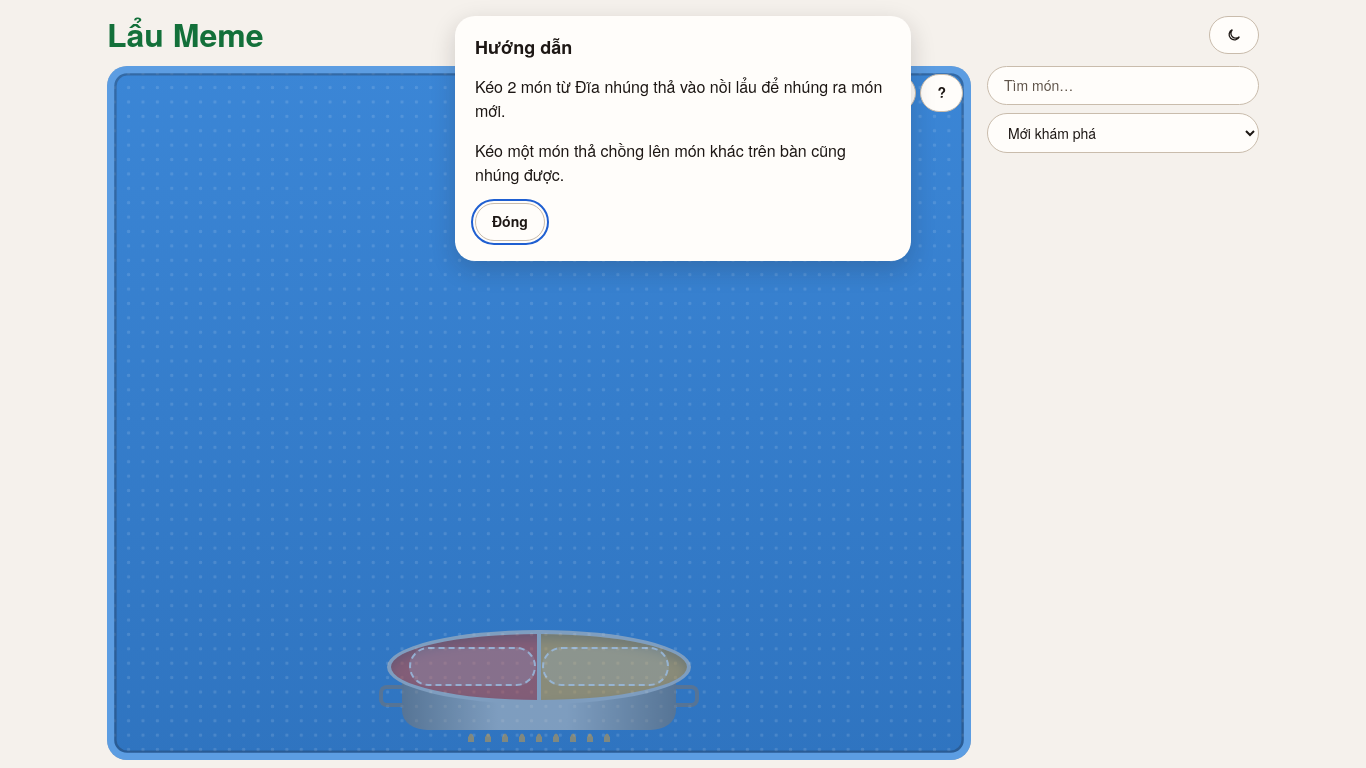
Test: AC-GAME-18: đổi cỡ khung nhìn PC -> mobile nhỏ thì mặt bàn đổi theo và món trên bàn không rơi ra ngoài mặt bàn
Click the button "Đóng" at (510, 222), box [475,203,545,241]
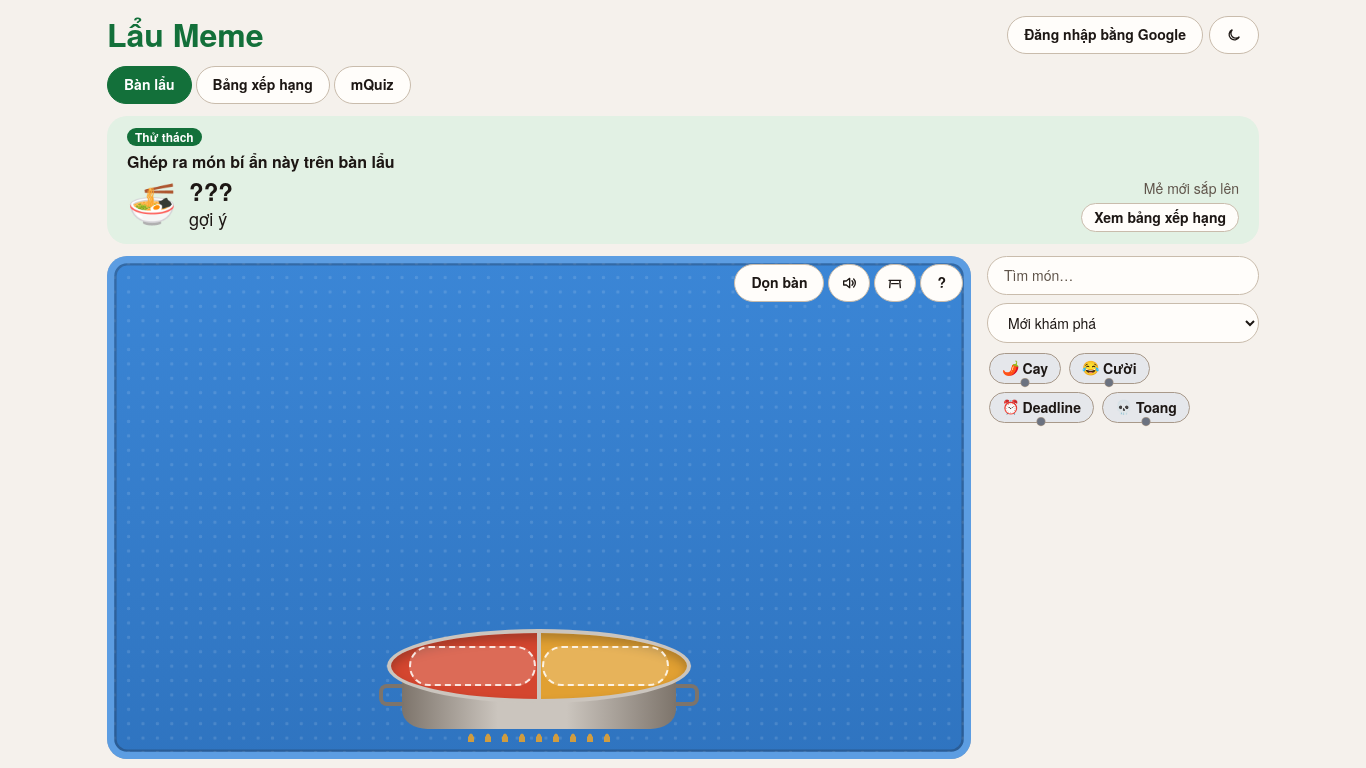
Expected: the element named "Món đặc biệt hôm nay" is shown, [107,116,1259,244]
Expected: the dialog is gone
Press the mouse on the list item with test id "plate-item" showing "🌶️ Cay" at (1025, 368), box [989,353,1061,384]
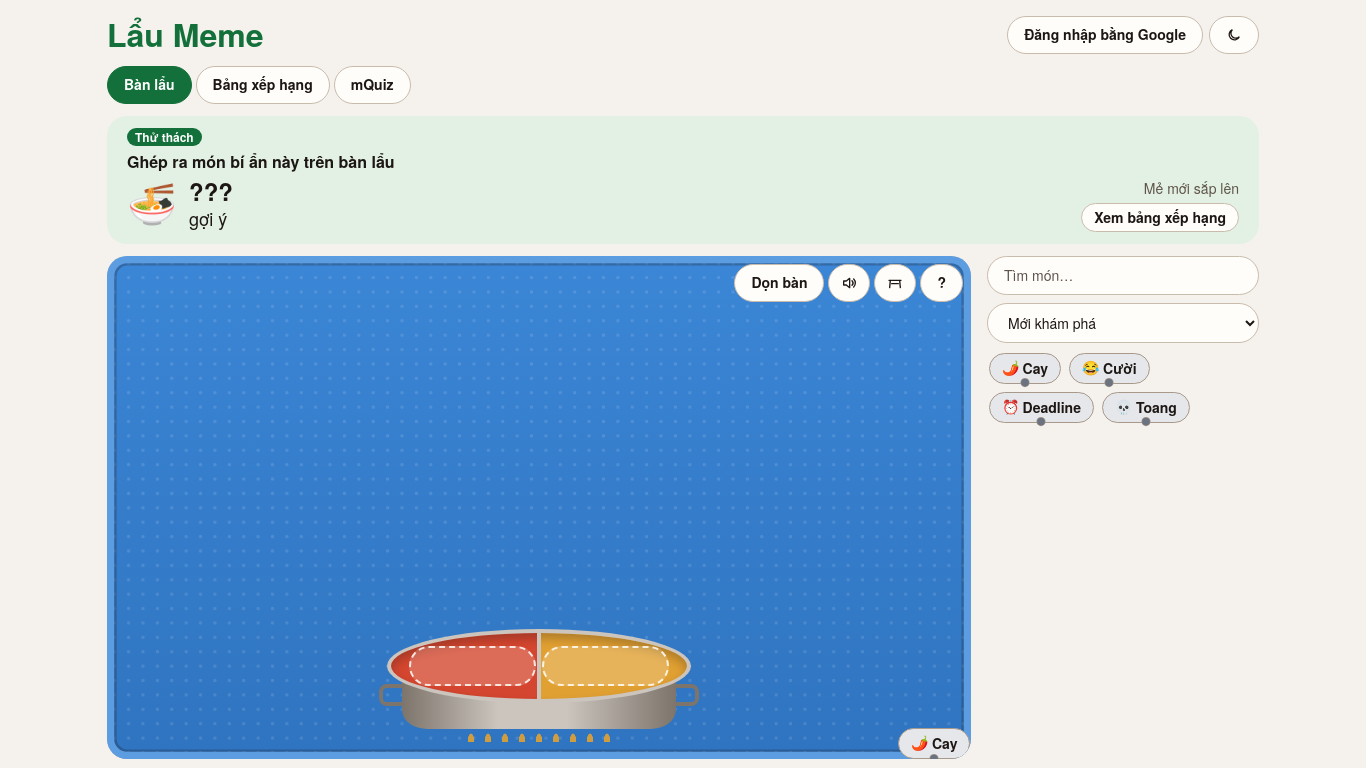
Press the mouse on the list item with test id "plate-item" showing "😂 Cười" at (1109, 368), box [1069,353,1150,384]
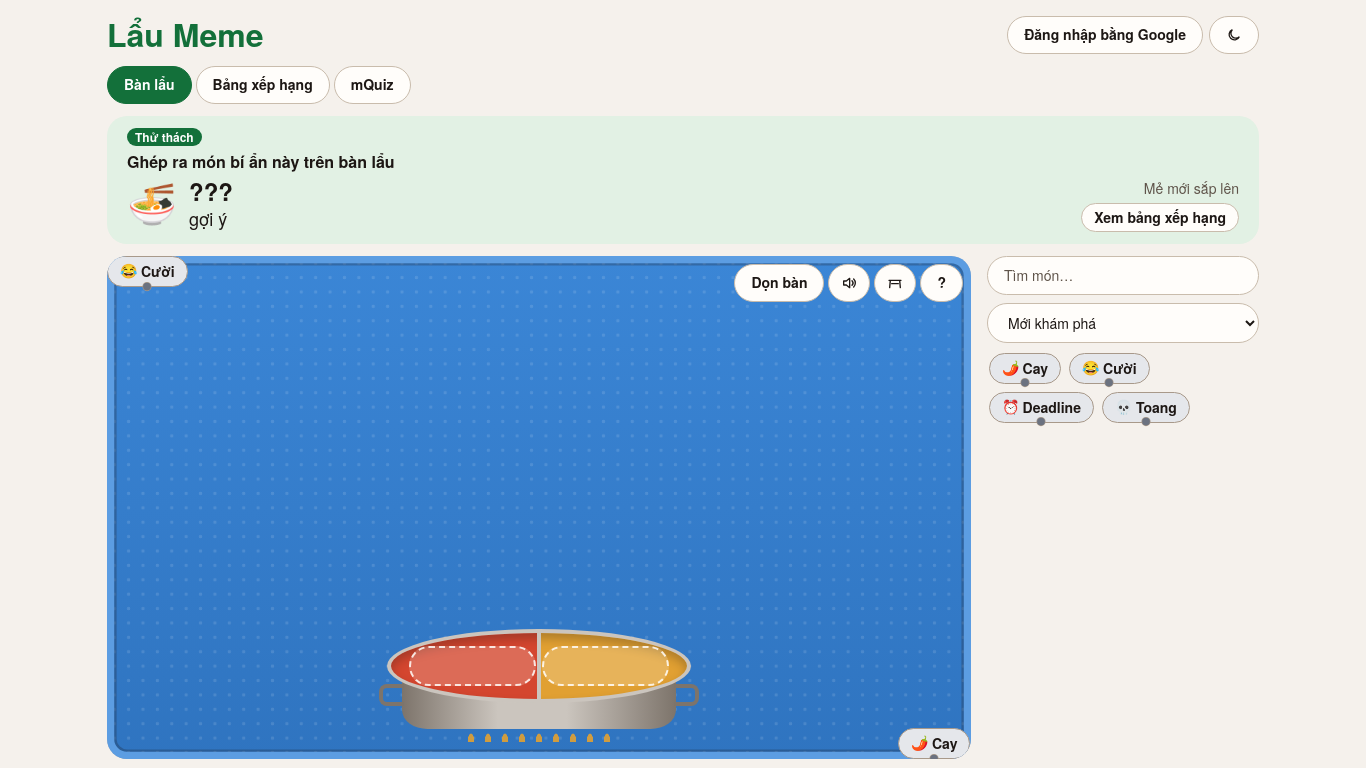
Press the mouse on the list item with test id "plate-item" showing "💀 Toang" at (1146, 407), box [1102,392,1190,423]
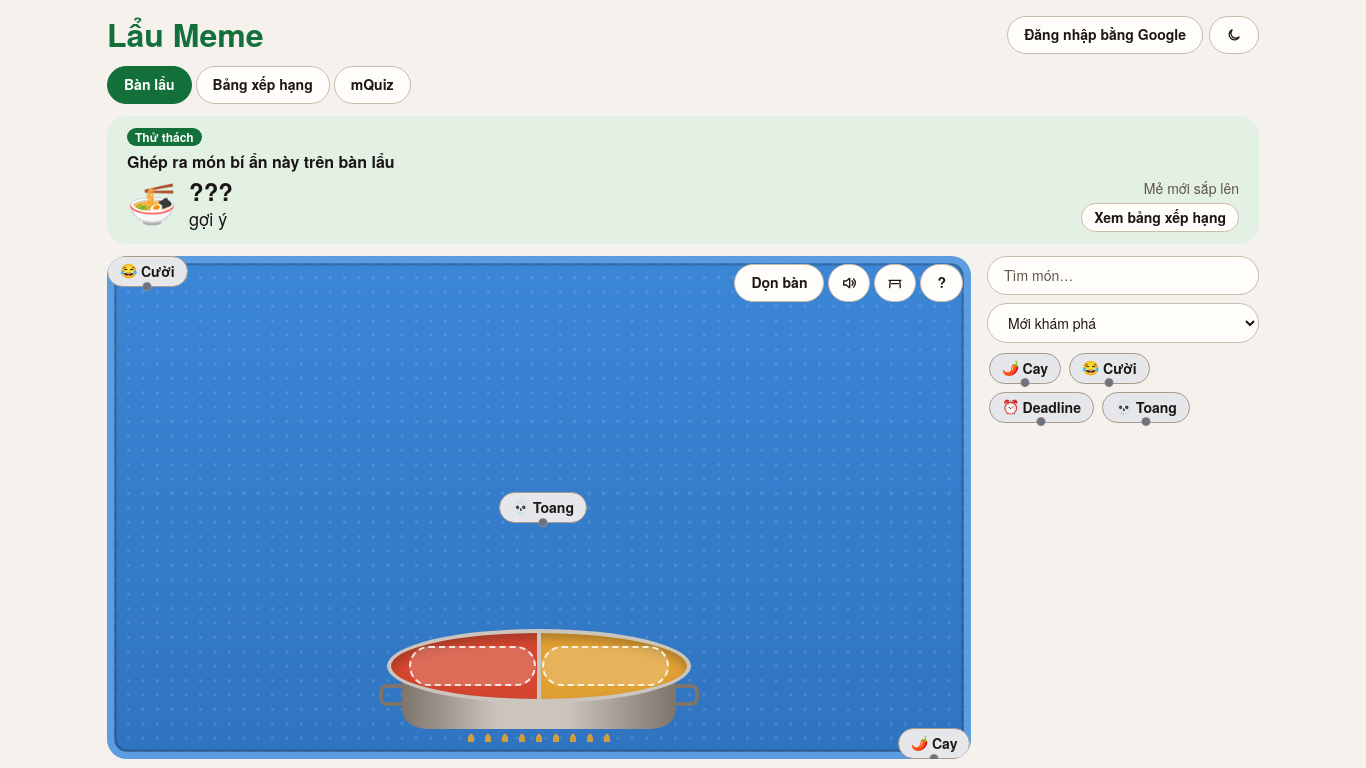
Expected: the number of elements with test id "table-item" is 3, [898,728,970,759]; [107,256,188,287]; [499,492,587,523]
